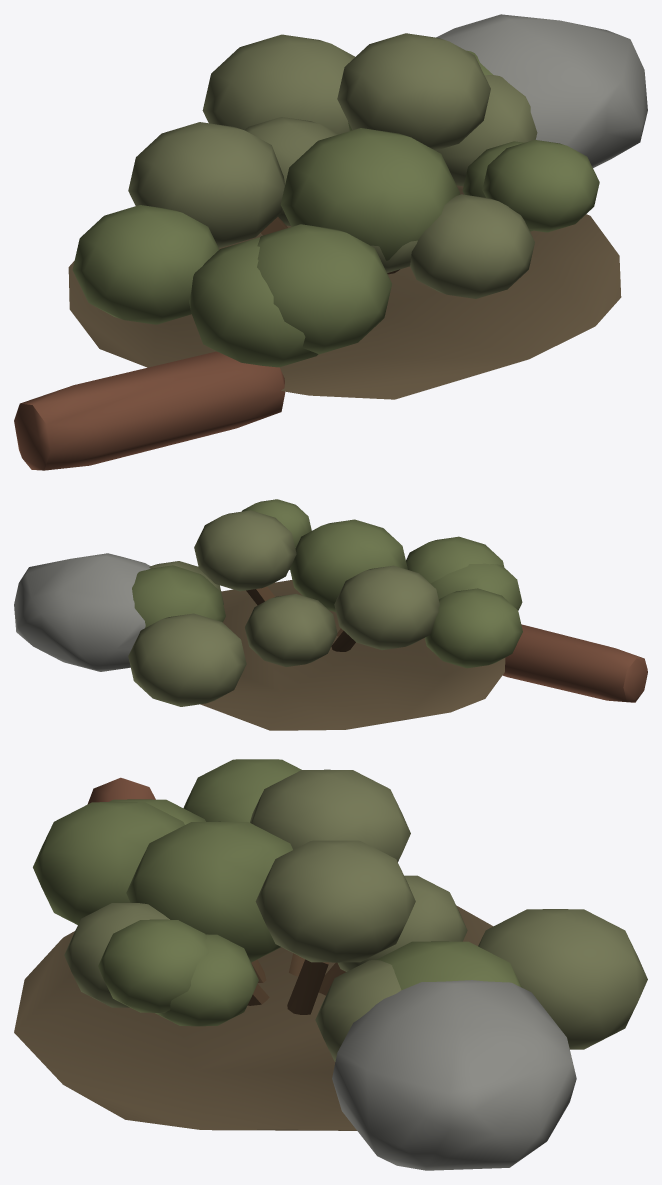
The model's file is saltbush_c_lod1.glb.
3 renders of one model, top to bottom at view 1: azimuth 30°, elevation 25°; view 2: azimuth 150°, elevation 25°; view 3: azimuth 270°, elevation 25°, orthographic. The views are drawn at different scales.
Visible parts, largest first — view 1: Surface.001; view 2: Surface.001; view 3: Surface.001.
Part boxes in pixels (x1,y1,x2,y2): Surface.001: (14,14,647,470); Surface.001: (14,499,647,730); Surface.001: (14,759,647,1170).
Bounding box in the file's own units: 2.79 × 0.8318 × 1.91.
